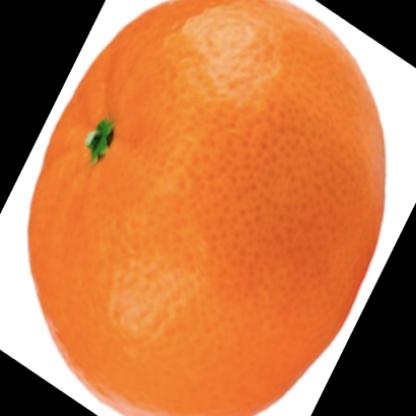fresh: (27, 1, 388, 416)
